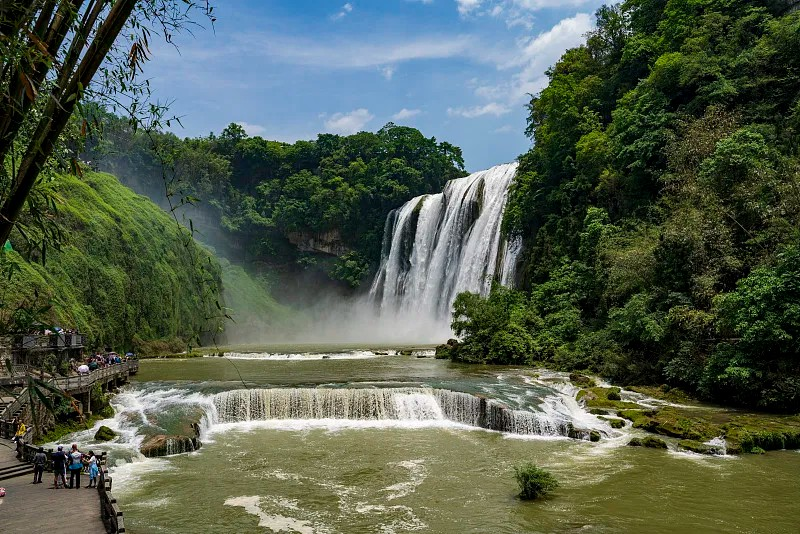Huangguoshu: (364, 164, 520, 346)
